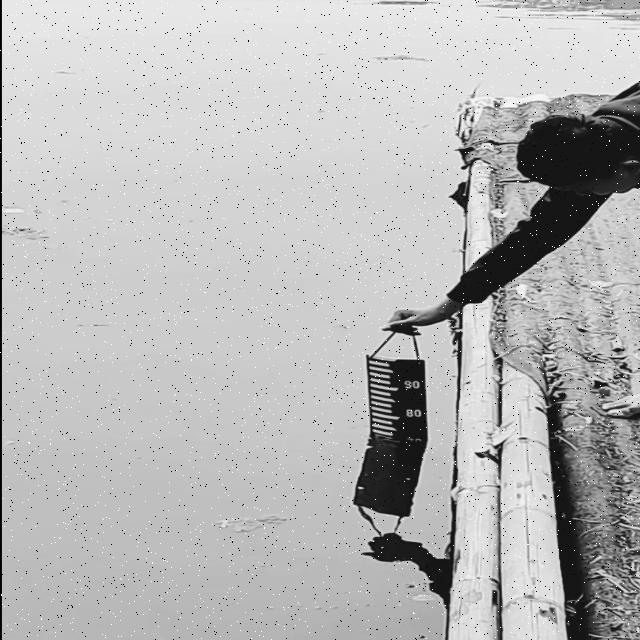80: (406, 408, 421, 419)
90: (403, 379, 422, 391)
staff: (367, 356, 425, 442)
